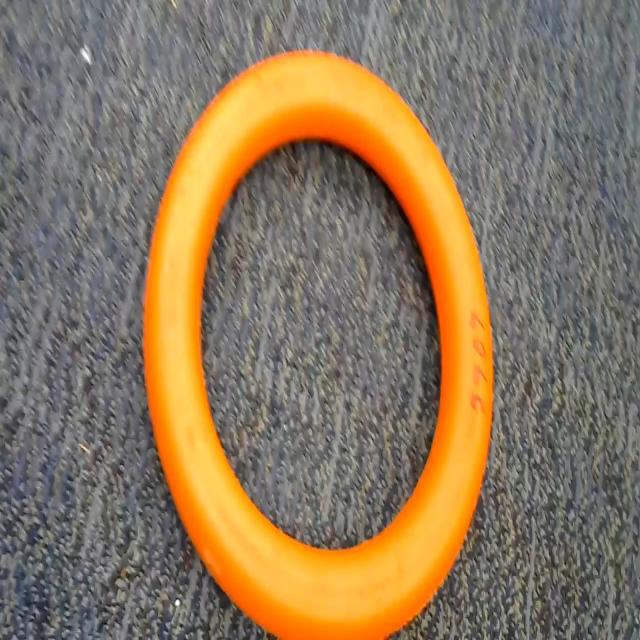note: (140, 38, 508, 640)
